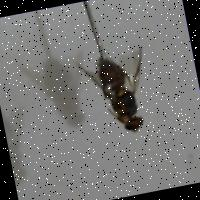Oriental-fruit-fly: (62, 34, 174, 156)
